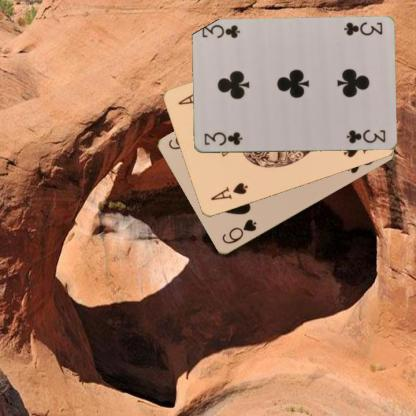3c: (341, 19, 384, 38), (202, 129, 243, 147)
6s: (219, 216, 258, 246)
As: (208, 180, 249, 202)
